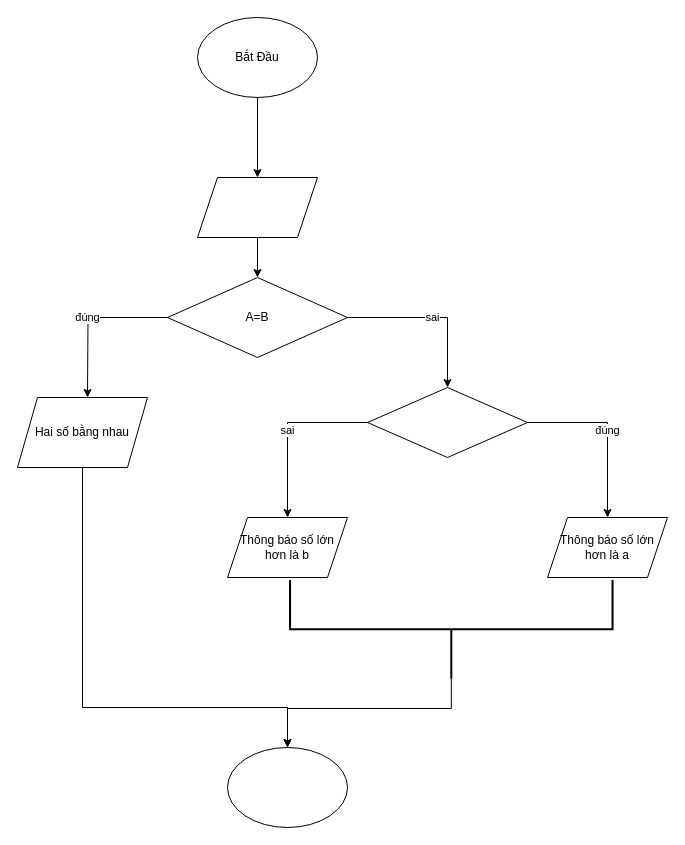
Image size: 685x845. Some labels were removed from this diagram. The box of each missing label's shape, as (x1, y1, x2, y2) in pixels:
A>B: (366, 386, 528, 458)
Kết thúc: (226, 746, 348, 828)
Nhập a,b: (196, 176, 318, 238)
